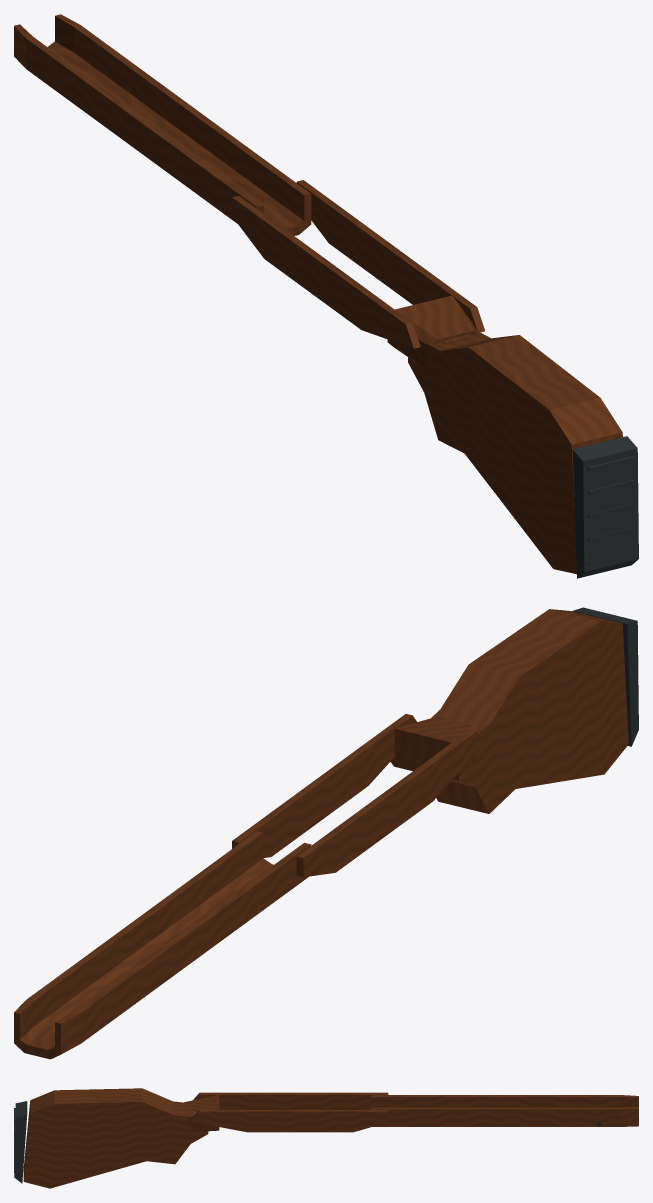
File: mosin_stock.glb
3 views of the same model, one above another, from view 1: azimuth 30°, elevation 25°; view 2: azimuth 150°, elevation 25°; view 3: azimuth 270°, elevation 25° (orthographic). The views are drawn at different scales.
Parts seen in each view (by area): view 1: stock__mosin_stock_LOD0_RAID_Secondary_Original_wood, stock__mosin_stock_LOD1_RAID_Secondary_Original_wood, stock__mosin_stock_LOD1_RAID_Secondary_Original_steel, stock__mosin_stock_LOD0_RAID_Secondary_Original_steel; view 2: stock__mosin_stock_LOD0_RAID_Secondary_Original_wood, stock__mosin_stock_LOD1_RAID_Secondary_Original_wood, stock__mosin_stock_LOD0_RAID_Secondary_Original_steel, stock__mosin_stock_LOD1_RAID_Secondary_Original_steel; view 3: stock__mosin_stock_LOD0_RAID_Secondary_Original_wood, stock__mosin_stock_LOD1_RAID_Secondary_Original_wood, stock__mosin_stock_LOD1_RAID_Secondary_Original_steel, stock__mosin_stock_LOD0_RAID_Secondary_Original_steel.
Boxes of the visible parts, x1,y1,x2,y2 form: stock__mosin_stock_LOD0_RAID_Secondary_Original_wood: [14, 14, 620, 571]; stock__mosin_stock_LOD1_RAID_Secondary_Original_wood: [408, 331, 622, 574]; stock__mosin_stock_LOD1_RAID_Secondary_Original_steel: [572, 436, 638, 578]; stock__mosin_stock_LOD0_RAID_Secondary_Original_steel: [573, 451, 637, 577]; stock__mosin_stock_LOD0_RAID_Secondary_Original_wood: [14, 609, 627, 1059]; stock__mosin_stock_LOD1_RAID_Secondary_Original_wood: [431, 609, 628, 813]; stock__mosin_stock_LOD0_RAID_Secondary_Original_steel: [622, 622, 638, 744]; stock__mosin_stock_LOD1_RAID_Secondary_Original_steel: [573, 607, 638, 746]; stock__mosin_stock_LOD0_RAID_Secondary_Original_wood: [26, 1089, 638, 1176]; stock__mosin_stock_LOD1_RAID_Secondary_Original_wood: [23, 1088, 208, 1188]; stock__mosin_stock_LOD1_RAID_Secondary_Original_steel: [14, 1101, 27, 1183]; stock__mosin_stock_LOD0_RAID_Secondary_Original_steel: [14, 1108, 601, 1182].
Bounding box in the file's own units: 0.102 × 0.218 × 1.42.
Materials: 2 (2 with a texture image).
